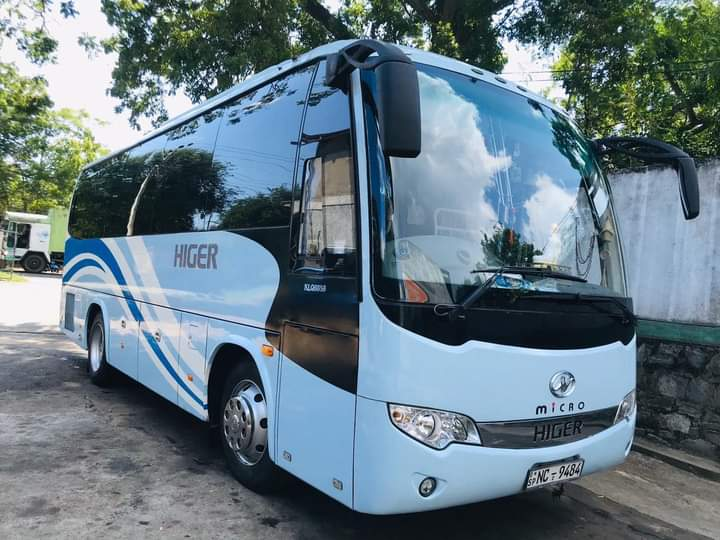number_plate: (525, 457, 583, 487)
